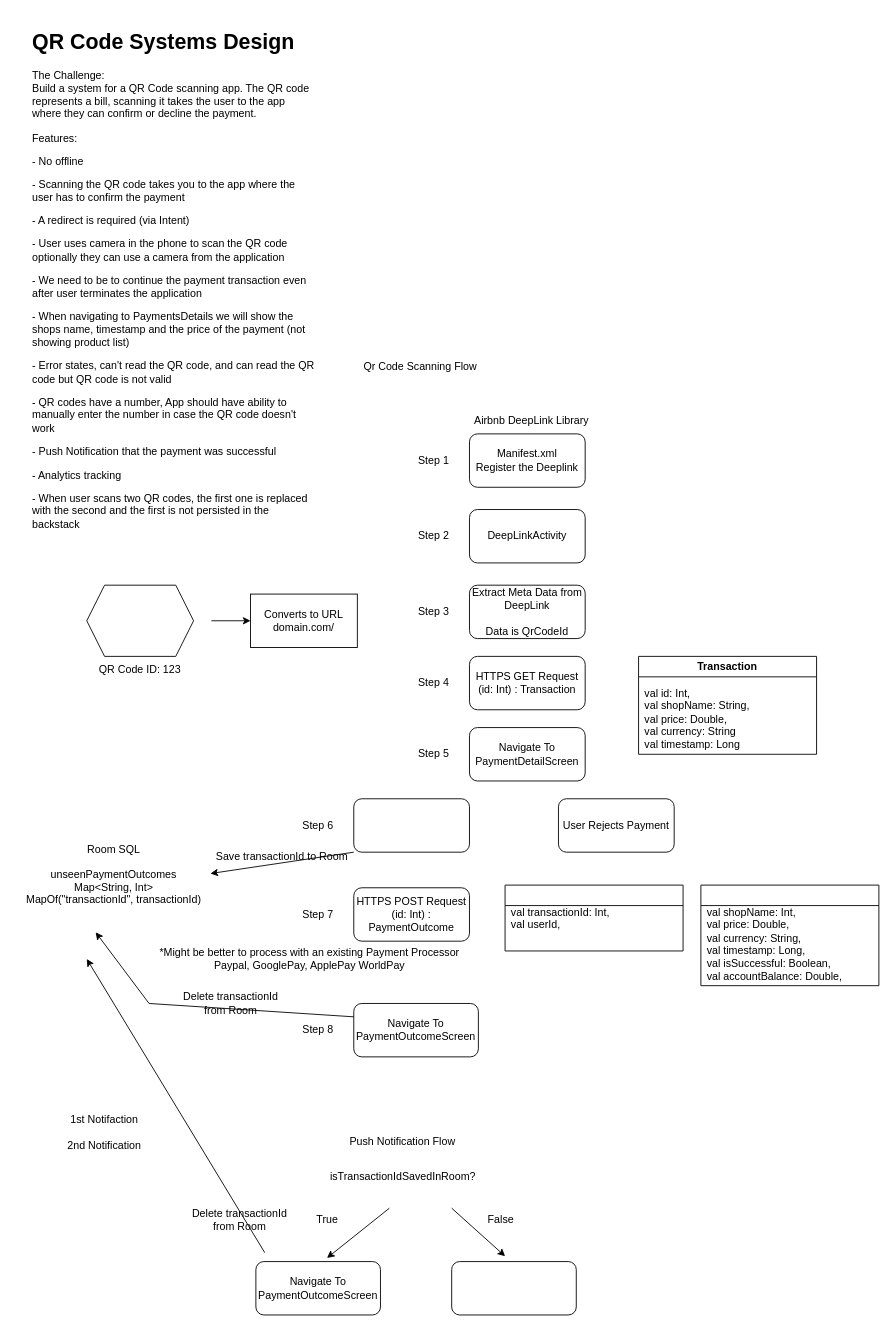
This 894x1331 diagram has some shape labels left out. Here are the shapes that lost their labels. From the top down, the box of each, then its label:
(86, 584, 194, 656): QR Code
(353, 798, 469, 852): User Confirms Payment
(504, 884, 683, 951): UserTransaction
(700, 884, 879, 986): PaymentOutcome
(451, 1261, 576, 1315): Navigate To AccountBalanceScreen
